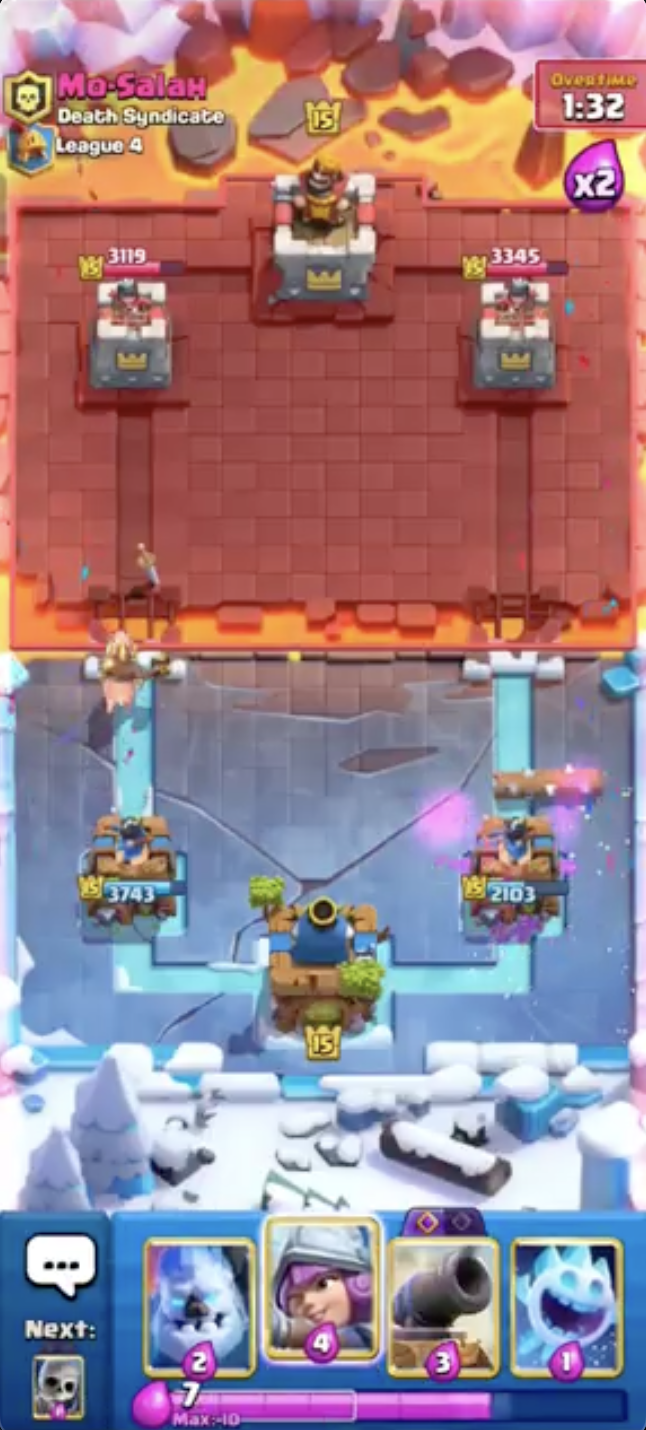hog_rider: (85, 621, 178, 724)
log: (485, 738, 611, 816)
